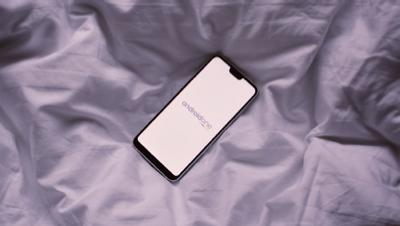cell-phone: (131, 48, 258, 185)
